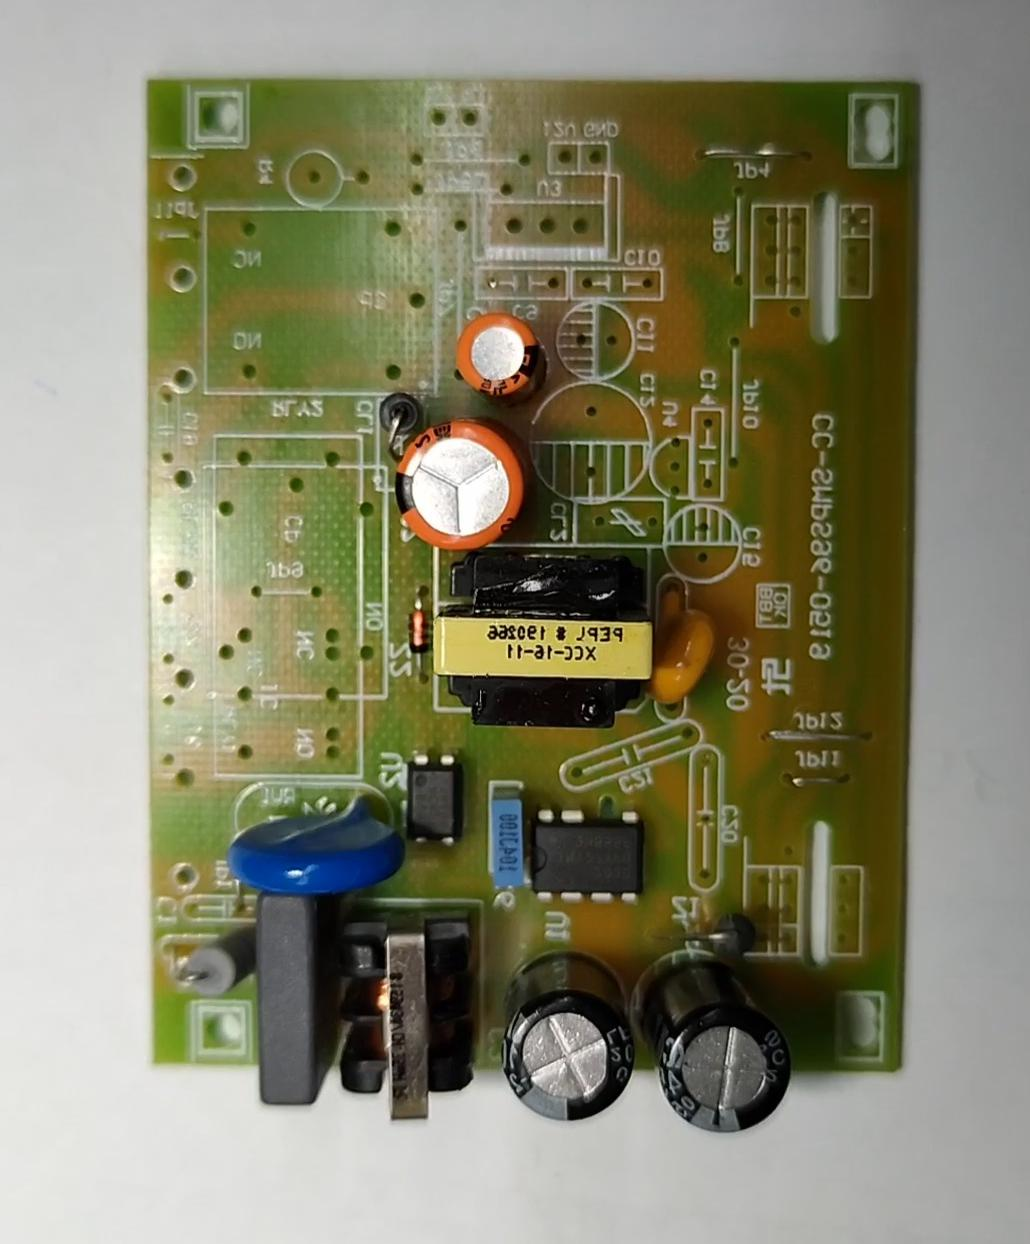Cap1: (392, 411, 524, 552)
Cap2: (454, 308, 536, 395)
Cap3: (500, 943, 636, 1128)
Cap4: (650, 959, 794, 1137)
MOSFET: (529, 805, 641, 905)
Mov: (226, 788, 411, 896)
Resistor: (176, 925, 252, 999)
Transformer: (440, 547, 656, 733), (325, 902, 476, 1127)
